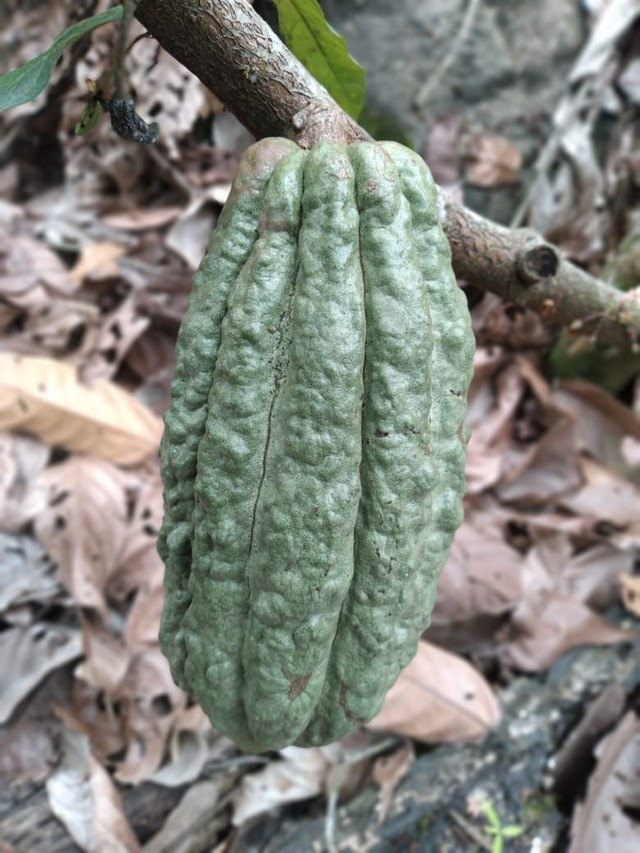Health: (141, 93, 492, 778)
